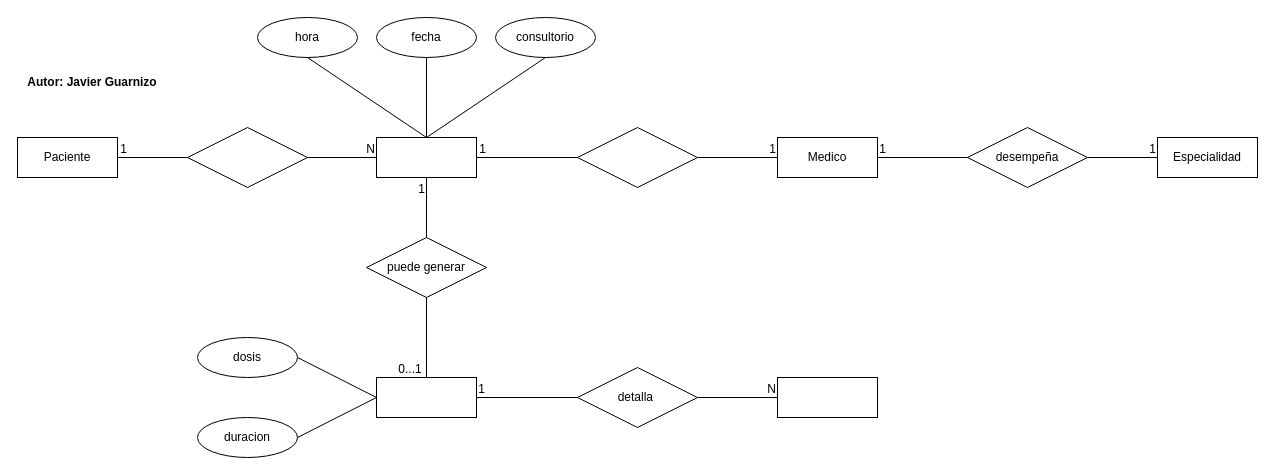
Image size: 1275x475. Some labels were removed from this diagram. The shapes that lost their labels are listed below. From the top down, each one's box as (x1, y1, x2, y2) in pixels, then its label:
(186, 126, 308, 188): agenda
(376, 136, 476, 178): Cita
(576, 126, 698, 188): es atentida
(376, 376, 476, 418): Receta
(776, 376, 878, 418): Medicamento
